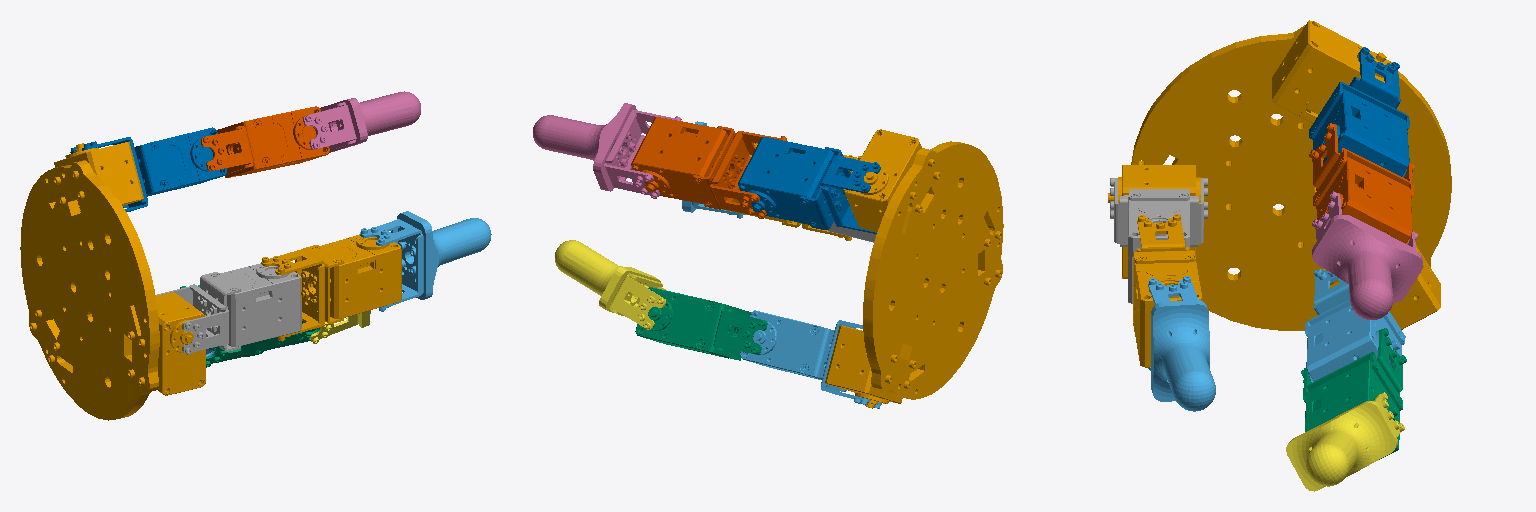
robot.urdf — DClaw:
<?xml version="1.0" encoding="utf-8"?>
<robot name="DClaw">
  <link name="base_link">
    <inertial>
      <origin xyz="0.026137 -0.13908 0.095138" rpy="0 0 0"/>
      <mass value="0.23695"/>
      <inertia ixx="0.00032097" ixy="-6.6887E-18" ixz="1.9851E-17" iyy="0.00016917" iyz="-1.3585E-07" izz="0.00016932"/>
    </inertial>
    <visual>
      <geometry>
        <mesh filename="meshes/visual/Base_link.obj"/>
      </geometry>
    </visual>
    <collision> <!-- base_cylinder -->
      <geometry>
        <mesh filename="meshes/collision/base_link_cylinder.obj"/>
      </geometry>
    </collision>
    <collision> <!-- base_motor_1 -->
      <origin xyz="0.0345 -0.2 0.085" rpy="0 0 0"/>
      <geometry>
        <box size="0.026 0.04 0.05"/>
      </geometry>
    </collision>
    <collision> <!-- base_motor_2 -->
      <origin xyz="0.0345 -0.097 0.049" rpy="-1.0472 0 0"/>
      <geometry>
        <box size="0.026 0.04 0.05"/>
      </geometry>
    </collision>
    <collision> <!-- base_motor_3 -->
      <origin xyz="0.0345 -0.12 0.154" rpy="1.0472 0 0"/>
      <geometry>
        <box size="0.026 0.04 0.05"/>
      </geometry>
    </collision>
  </link>
  <link name="Link1_1">
    <visual>
      <geometry>
        <mesh filename="meshes/visual/Link1_1.obj"/>
      </geometry>
    </visual>
    <collision>  <!-- Link1_1 -->
      <origin xyz="0.055 0.038 -0.024" rpy="1.0472 0 0"/>
      <geometry>
        <box size="0.056 0.038 0.03"/>
      </geometry>
    </collision>
    <collision>  <!-- Link1_1_side -->
      <origin xyz="0.013 0.022 -0.013" rpy="1.0472 0 0"/>
      <geometry>
        <box size="0.03 0.024 0.01"/>
      </geometry>
    </collision>
    <collision>
      <origin xyz="0.013 0.055 -0.032" rpy="1.0472 0 0"/>
      <geometry>
        <box size="0.03 0.024 0.01"/>
      </geometry>
    </collision>
  </link>
  <joint name="Joint1_1" type="revolute">
    <origin xyz="0.033836 -0.086572 0.0038435" rpy="2.6178 0.014876 -0.025864"/>
    <parent link="base_link"/>
    <child link="Link1_1"/>
    <axis xyz="0 0.86525 -0.50134"/>
    <limit lower="-1.32" upper="0.524" effort="10" velocity="100"/>
  </joint>
  <link name="Link2_1">
    <visual>
      <geometry>
        <mesh
          filename="meshes/visual/Link2_1.obj"/>
      </geometry>
    </visual>
    <collision>  <!-- Link2_1 -->
      <origin xyz="0.042 0.026 -0.0162" rpy="-0.3316 -0.4014 -0.89"/>
      <geometry>
        <box size="0.03 0.054 0.038"/>
      </geometry>
    </collision>
    <collision>  <!-- Link2_1_side -->
      <origin xyz="0.01 0.017 0.015" rpy="-0.3316 -0.4014 -0.89"/>
      <geometry>
        <box size="0.024 0.03 0.01"/>
      </geometry>
    </collision>
    <collision>
      <origin xyz="0.01 -0.003 -0.02" rpy="-0.3316 -0.4014 -0.89"/>
      <geometry>
        <box size="0.024 0.03 0.01"/>
      </geometry>
    </collision>
  </link>
  <joint name="Joint2_1" type="revolute">
    <origin xyz="0.068497 0.038635 -0.023133" rpy="0.085364 -0.30753 -0.57541"/>
    <parent link="Link1_1"/>
    <child link="Link2_1"/>
    <axis xyz="0.009437 0.50132 0.86521"/>
    <limit lower="-1.57" upper="1.57" effort="10" velocity="100"/>
  </joint>
  <link name="Link3_1">
    <visual>
      <geometry>
        <mesh filename="meshes/visual/Link3_1.obj"/>
      </geometry>
    </visual>
    <collision>  <!-- Link3_1 -->
      <geometry>
        <mesh filename="meshes/collision/link3_1_C.obj"/>
      </geometry>
    </collision>
    <collision>  <!-- Link3_1_side -->
      <origin xyz="0.013 -0.01 0.018" rpy="0.524 0 0"/>
      <geometry>
        <box size="0.03 0.024 0.01"/>
      </geometry>
    </collision>
    <collision>
      <origin xyz="0.013 0.011 -0.018" rpy="0.524 0 0"/>
      <geometry>
        <box size="0.03 0.024 0.01"/>
      </geometry>
    </collision>
  </link>
  <joint name="Joint3_1" type="revolute">
    <origin xyz="0.055352 0.034651 -0.020681" rpy="-0.85342 0.42531 0.84594"/>
    <parent link="Link2_1"/>
    <child link="Link3_1"/>
    <axis xyz="0.009437 0.49863 -0.86676"/>
    <limit lower="-1.57" upper="1.57" effort="10" velocity="100"/>
  </joint>
  <link name="Link1_2">
    <visual>
      <geometry>
        <mesh filename="meshes/visual/Link1_2.obj"/>
      </geometry>
    </visual>
    <collision>  <!-- Link1_2 -->
      <origin xyz="0.052 0.008 -0.006" rpy="-0.524 0 0"/>
      <geometry>
        <box size="0.056 0.03 0.038"/>
      </geometry>
    </collision>
    <collision>  <!-- Link1_2_side -->
      <origin xyz="0.012 -0.008 0.005" rpy="-0.524 0 0"/>
      <geometry>
        <box size="0.03 0.01 0.024"/>
      </geometry>
    </collision>
    <collision>
      <origin xyz="0.012 0.025 -0.015" rpy="-0.524 0 0"/>
      <geometry>
        <box size="0.03 0.01 0.024"/>
      </geometry>
    </collision>
  </link>
  <joint name="Joint1_2" type="revolute">
    <origin xyz="0.033836 -0.11353 0.13927" rpy="1.571 0.014928 0.025769"/>
    <parent link="base_link"/>
    <child link="Link1_2"/>
    <axis xyz="0 0.86525 -0.50134"/>
    <limit lower="-0.524" upper="1.35" effort="10" velocity="100"/>
  </joint>
  <link name="Link2_2">
    <visual>
      <geometry>
        <mesh filename="meshes/visual/Link2_2.obj"/>
      </geometry>
    </visual>
    <collision> <!-- Link2_2 -->
      <origin xyz="0.043 0.027 -0.015" rpy="-0.436 0.297 0.558"/>
      <geometry>
        <box size="0.056 0.03 0.038"/>
      </geometry>
    </collision>
    <collision> <!-- Link2_2_side -->
      <origin xyz="0.01 -0.003 -0.019" rpy="-0.436 0.297 0.558"/>
      <geometry>
        <box size="0.03 0.024 0.01"/>
      </geometry>
    </collision>
    <collision>
      <origin xyz="0.01 0.017 0.015" rpy="-0.436 0.297 0.558"/>
      <geometry>
        <box size="0.03 0.024 0.01"/>
      </geometry>
    </collision>
  </link>
  <joint name="Joint2_2" type="revolute">
    <origin xyz="0.068497 0.0077714 -0.00525" rpy="0.089096 -0.31316 -0.58804"/>
    <parent link="Link1_2"/>
    <child link="Link2_2"/>
    <axis xyz="0.009437 0.50132 0.86521"/>
    <limit lower="-1.57" upper="1.57" effort="10" velocity="100"/>
  </joint>
  <link name="Link3_2">
    <visual>
      <geometry>
        <mesh filename="meshes/visual/Link3_2.obj"/>
      </geometry>
    </visual>
    <collision> <!-- Link3_2 -->
      <geometry>
        <mesh filename="meshes/collision/link3_2_C.obj"/>
      </geometry>
    </collision>
    <collision> <!-- Link3_2_side -->
      <origin xyz="0.013 0.011 -0.02" rpy="0.524 0 0"/>
      <geometry>
        <box size="0.03 0.024 0.01"/>
      </geometry>
    </collision>
    <collision>
      <origin xyz="0.013 -0.01 0.018" rpy="0.524 0 0"/>
      <geometry>
        <box size="0.03 0.024 0.01"/>
      </geometry>
    </collision>
  </link>
  <joint name="Joint3_2" type="revolute">
    <origin xyz="0.055352 0.034651 -0.020681" rpy="-0.94339 0.33385 0.59814"/>
    <parent link="Link2_2"/>
    <child link="Link3_2"/>
    <axis xyz="0.009437 0.49863 -0.86676"/>
    <limit lower="-1.57" upper="1.57" effort="10" velocity="100"/>
  </joint>
  <link name="Link1_3">
    <visual>
      <geometry>
        <mesh filename="meshes/visual/Link1_3.obj"/>
      </geometry>
    </visual>
    <collision> <!-- Link1_3 -->
      <origin xyz="0.053 -0.03 0.015" rpy="-0.524 0 0"/>
      <geometry>
        <box size="0.056 0.03 0.04"/>
      </geometry>
    </collision>
    <collision> <!-- Link1_3_side -->
      <origin xyz="0.013 -0.012 0.007" rpy="-0.524 0 0"/>
      <geometry>
        <box size="0.03 0.01 0.024"/>
      </geometry>
    </collision>
    <collision>
      <origin xyz="0.013 -0.045 0.025" rpy="-0.524 0 0"/>
      <geometry>
        <box size="0.03 0.01 0.024"/>
      </geometry>
    </collision>
  </link>
  <joint name="Joint1_3" type="revolute">
    <origin xyz="0.033836 -0.16663 0.095224" rpy="0.5236 -0.013932 2.1609E-05"/>
    <parent link="base_link"/>
    <child link="Link1_3"/>
    <axis xyz="0 0.86525 -0.50134"/>
    <limit lower="-1.35" upper="0.524" effort="10" velocity="100"/>
  </joint>
  <link name="Link2_3">
    <visual>
      <geometry>
        <mesh filename="meshes/visual/Link2_3.obj"/>
      </geometry>
    </visual>
    <collision> <!-- Link2_3 -->
      <origin xyz="0.045 0.028 -0.017" rpy="-0.419 0.279 0.576"/>
      <geometry>
        <box size="0.056 0.03 0.04"/>
      </geometry>
    </collision>
    <collision> <!-- Link2_3_side -->
      <origin xyz="0.01 0.018 0.014" rpy="-0.419 0.279 0.576"/>
      <geometry>
        <box size="0.03 0.024 0.01"/>
      </geometry>
    </collision>
    <collision>
      <origin xyz="0.011 -0.005 -0.023" rpy="-0.419 0.279 0.576"/>
      <geometry>
        <box size="0.03 0.024 0.01"/>
      </geometry>
    </collision>
  </link>
  <joint name="Joint2_3" type="revolute">
    <origin xyz="0.068497 -0.028696 0.01588" rpy="0.063109 -0.26992 -0.49445"/>
    <parent link="Link1_3"/>
    <child link="Link2_3"/>
    <axis xyz="0.009437 0.50132 0.86521"/>
    <limit lower="-1.57" upper="1.57" effort="10" velocity="100"/>
  </joint>
  <link name="Link3_3">
    <visual>
      <geometry>
        <mesh filename="meshes/visual/Link3_3.obj"/>
      </geometry>
    </visual>
    <collision> <!-- Link3_3 -->
      <geometry>
        <mesh filename="meshes/collision/link3_3_C.obj"/>
      </geometry>
    </collision>
    <collision> <!-- Link3_3_side -->
      <origin xyz="0.013 -0.011 0.019" rpy="0.524 0 0"/>
      <geometry>
        <box size="0.03 0.024 0.01"/>
      </geometry>
    </collision>
    <collision>
      <origin xyz="0.013 0.01 -0.019" rpy="0.524 0 0"/>
      <geometry>
        <box size="0.03 0.024 0.01"/>
      </geometry>
    </collision>
  </link>
  <joint name="Joint3_3" type="revolute">
    <origin xyz="0.055352 0.034651 -0.020681" rpy="2.212 0.33079 0.64036"/>
    <parent link="Link2_3"/>
    <child link="Link3_3"/>
    <axis xyz="0.009437 0.49863 -0.86676"/>
    <limit lower="-1.57" upper="1.57" effort="10" velocity="100"/>
  </joint>
</robot>

--- Render facts (derived) ---
3 views of the same robot in one strip: view 1: azimuth 30°, elevation 25°; view 2: azimuth 150°, elevation 25°; view 3: azimuth 270°, elevation 25° (orthographic).
Model DClaw with 10 links and 9 joints (9 revolute), rooted at base_link, posed every joint at zero.
Links seen in each view (by area): view 1: base_link, Link2_3, Link1_3, Link2_2, Link3_3, Link1_2, Link3_2, Link2_1, Link3_1; view 2: base_link, Link2_2, Link1_2, Link3_2, Link2_1, Link3_1, Link1_1; view 3: base_link, Link3_2, Link1_2, Link3_3, Link2_2, Link3_1, Link1_1, Link2_1, Link2_3, Link1_3.
Link boxes in pixels (x1=…): base_link: x1=20, y1=142, x2=205, y2=420; Link2_3: x1=261, y1=234, x2=401, y2=340; Link1_3: x1=156, y1=263, x2=301, y2=354; Link2_2: x1=201, y1=106, x2=329, y2=177; Link3_3: x1=360, y1=211, x2=491, y2=311; Link1_2: x1=70, y1=127, x2=227, y2=211; Link3_2: x1=303, y1=91, x2=420, y2=152; Link2_1: x1=180, y1=285, x2=319, y2=367; Link3_1: x1=310, y1=310, x2=370, y2=343; base_link: x1=825, y1=129, x2=1003, y2=408; Link2_2: x1=631, y1=117, x2=786, y2=218; Link1_2: x1=738, y1=137, x2=880, y2=233; Link3_2: x1=533, y1=103, x2=681, y2=198; Link2_1: x1=635, y1=287, x2=767, y2=360; Link3_1: x1=555, y1=240, x2=666, y2=329; Link1_1: x1=740, y1=310, x2=881, y2=408; base_link: x1=1108, y1=20, x2=1451, y2=330; Link3_2: x1=1312, y1=191, x2=1423, y2=319; Link1_2: x1=1309, y1=47, x2=1409, y2=177; Link3_3: x1=1148, y1=276, x2=1215, y2=411; Link2_2: x1=1309, y1=123, x2=1414, y2=244; Link3_1: x1=1286, y1=392, x2=1404, y2=491; Link1_1: x1=1305, y1=269, x2=1405, y2=382; Link2_1: x1=1301, y1=328, x2=1406, y2=459; Link2_3: x1=1133, y1=214, x2=1201, y2=367; Link1_3: x1=1110, y1=178, x2=1207, y2=303.
Bounding box of the posed robot: 0.2436 × 0.1575 × 0.161 m (x, y, z).
10 mesh visuals loaded from 10 distinct referenced files (10 OBJ).